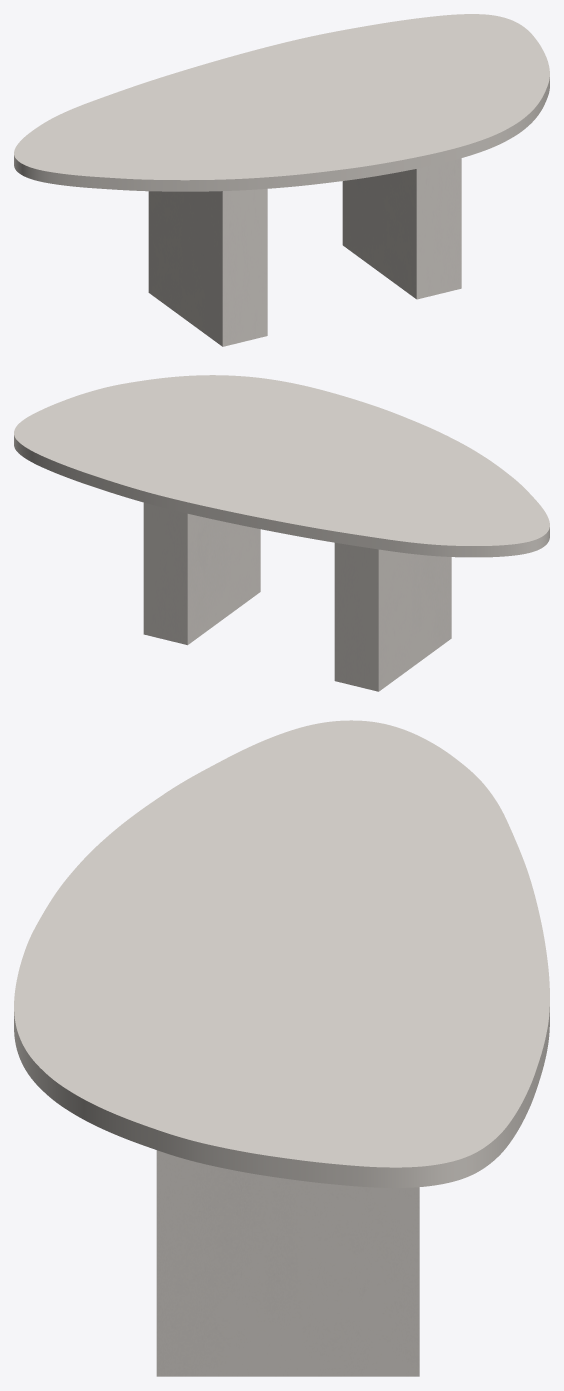
File: pearlwhite_pebbletop_standard_ridge.glb
3 renders of one model, top to bottom at view 1: azimuth 30°, elevation 25°; view 2: azimuth 150°, elevation 25°; view 3: azimuth 270°, elevation 25°, orthographic. The views are drawn at different scales.
Visible parts, largest first — view 1: standard_pebbletop, ridge; view 2: standard_pebbletop, ridge; view 3: standard_pebbletop, ridge.
Boxes of the visible parts, bbox=[...] form: standard_pebbletop: bbox=[14, 14, 549, 191]; ridge: bbox=[148, 158, 461, 346]; standard_pebbletop: bbox=[14, 375, 549, 557]; ridge: bbox=[143, 502, 451, 691]; standard_pebbletop: bbox=[14, 720, 549, 1187]; ridge: bbox=[156, 1150, 419, 1376].
Bounding box in the file's own units: 7.5 × 2.51 × 3.8.
Materials: 1 (1 with a texture image).
